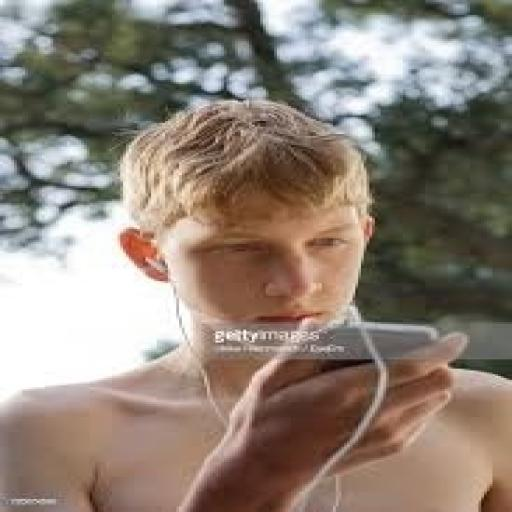listening_to_music: (0, 97, 509, 510)
